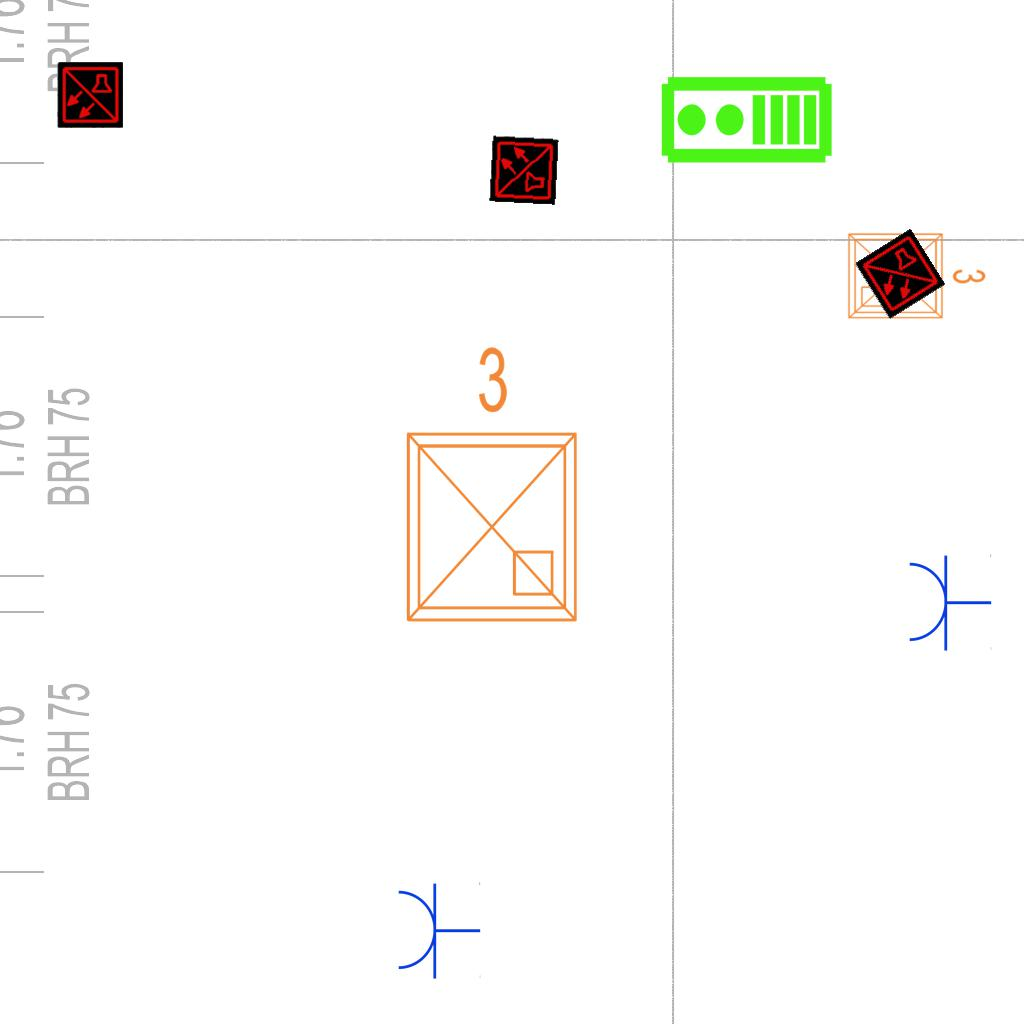Einbaudownlights_LED_Konferenzraeume: (384, 336, 592, 636), (841, 222, 991, 326)
Gegensprechanlage_mit_Video: (658, 74, 834, 169)
OKW_Multisensormelder_(Kombination_optischer_Rauch-Kahlenmonoxid_Waerme-Melder): (854, 228, 946, 320), (489, 135, 559, 205), (57, 62, 123, 128)
Schukosteckdose_einfach: (394, 880, 481, 980), (905, 552, 992, 652)
